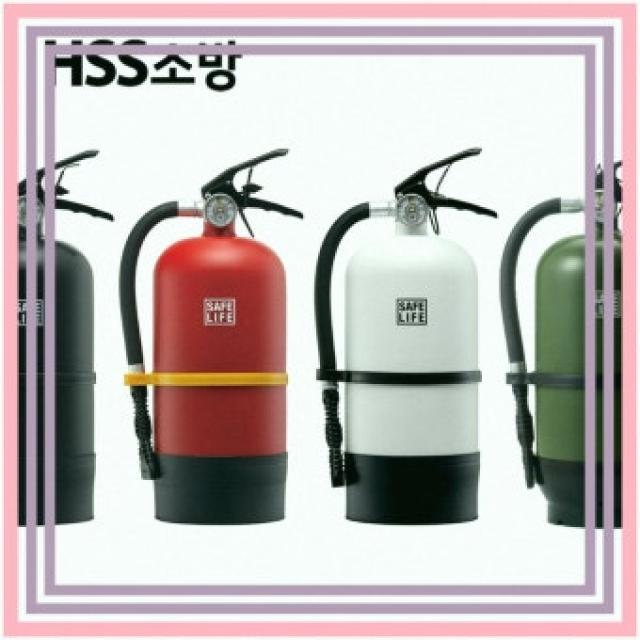pressure gauge: (204, 194, 239, 227), (398, 194, 429, 227), (19, 196, 26, 227)
